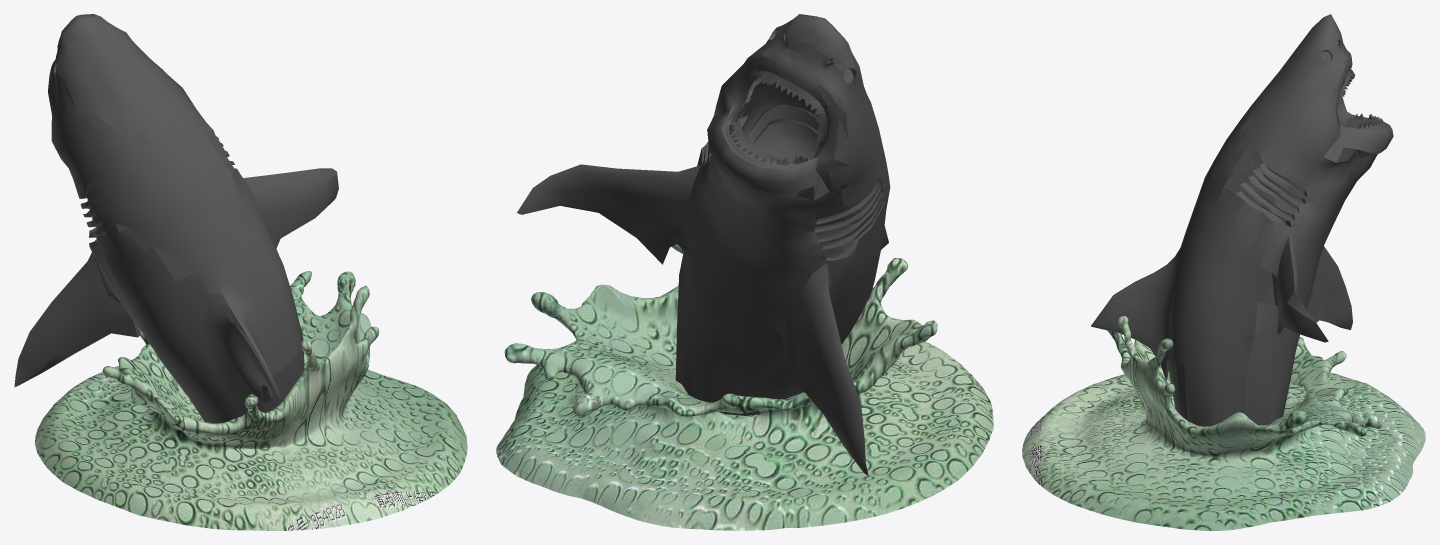
3 views of the same model, side by side, from view 1: azimuth 30°, elevation 25°; view 2: azimuth 150°, elevation 25°; view 3: azimuth 270°, elevation 25° (orthographic). The views are drawn at different scales.
Visible parts, largest first — view 1: xyz_shark, XYZ_splash_version2; view 2: XYZ_splash_version2, xyz_shark; view 3: xyz_shark, XYZ_splash_version2.
Boxes of the visible parts, x1,y1,x2,y2 form: xyz_shark: (14, 14, 338, 423); XYZ_splash_version2: (35, 271, 467, 530); XYZ_splash_version2: (496, 244, 993, 530); xyz_shark: (517, 14, 890, 475); xyz_shark: (1091, 14, 1393, 426); XYZ_splash_version2: (1022, 316, 1425, 530).
Size of the model in its own units: 111 by 119 by 114.
